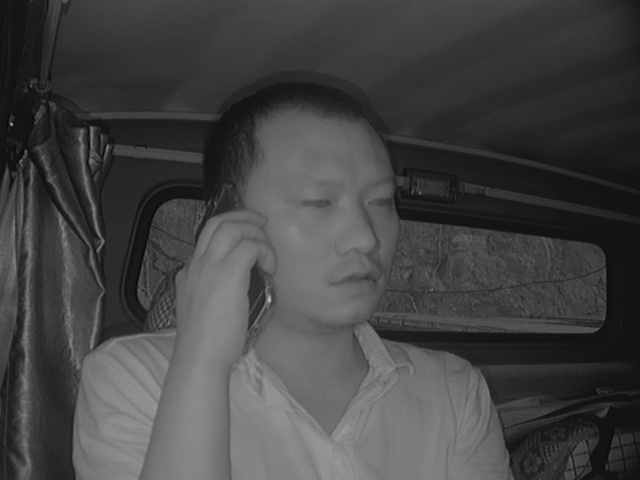hand: (169, 208, 276, 355)
